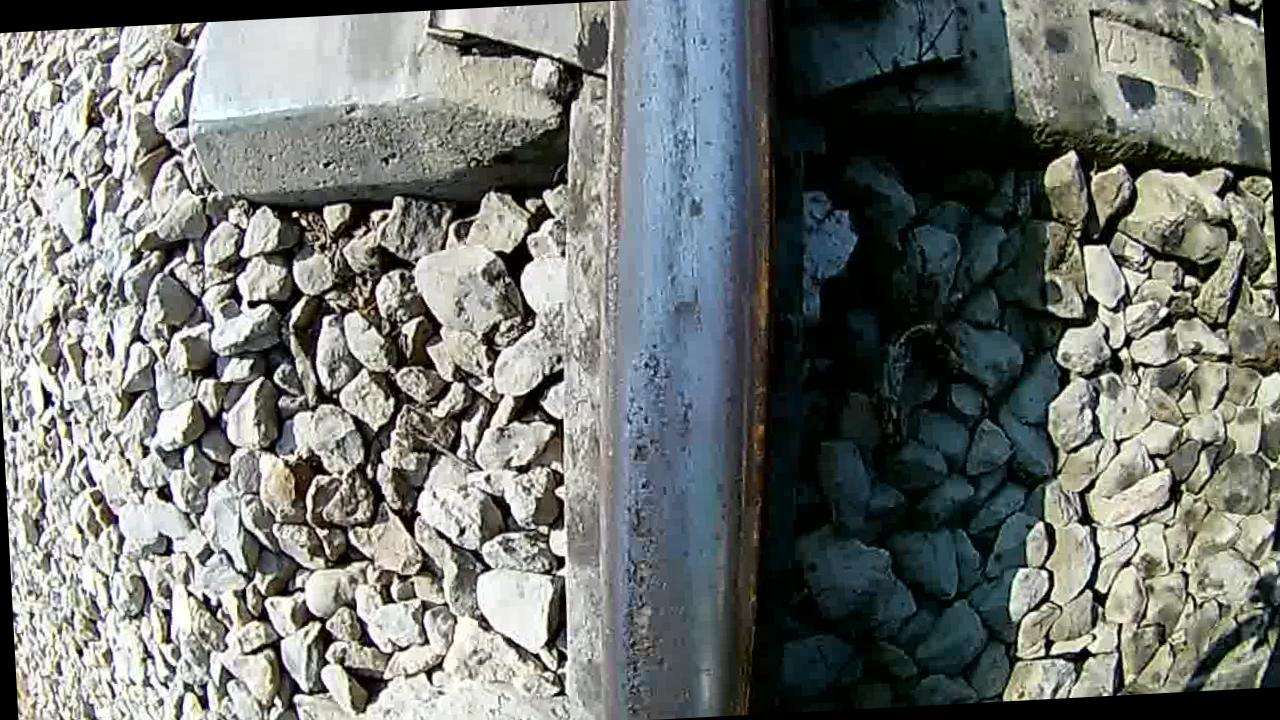crack: (566, 0, 805, 720)
